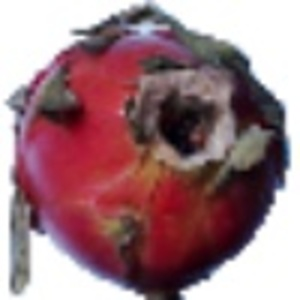pitaia: (5, 1, 300, 300)
